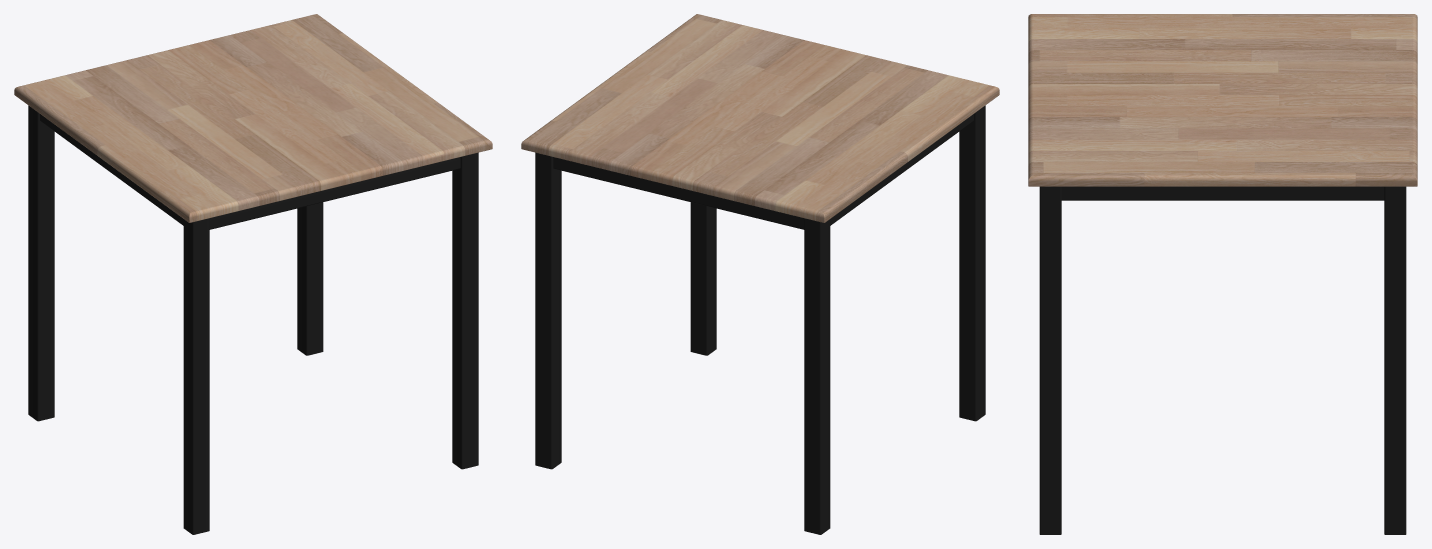
The model's file is Mini Table.fbx.
3 views of the same model, side by side, from view 1: azimuth 30°, elevation 25°; view 2: azimuth 150°, elevation 25°; view 3: azimuth 270°, elevation 25° (orthographic). The views are drawn at different scales.
Visible parts, largest first — view 1: Table.001; view 2: Table.001; view 3: Table.001.
Boxes of the visible parts, <box> form: Table.001: <box>14,14,492,534</box>; Table.001: <box>521,14,999,534</box>; Table.001: <box>1028,14,1417,534</box>.
Size of the model in its own units: 70 by 72 by 70.
Materials: 2 (1 with a texture image).
